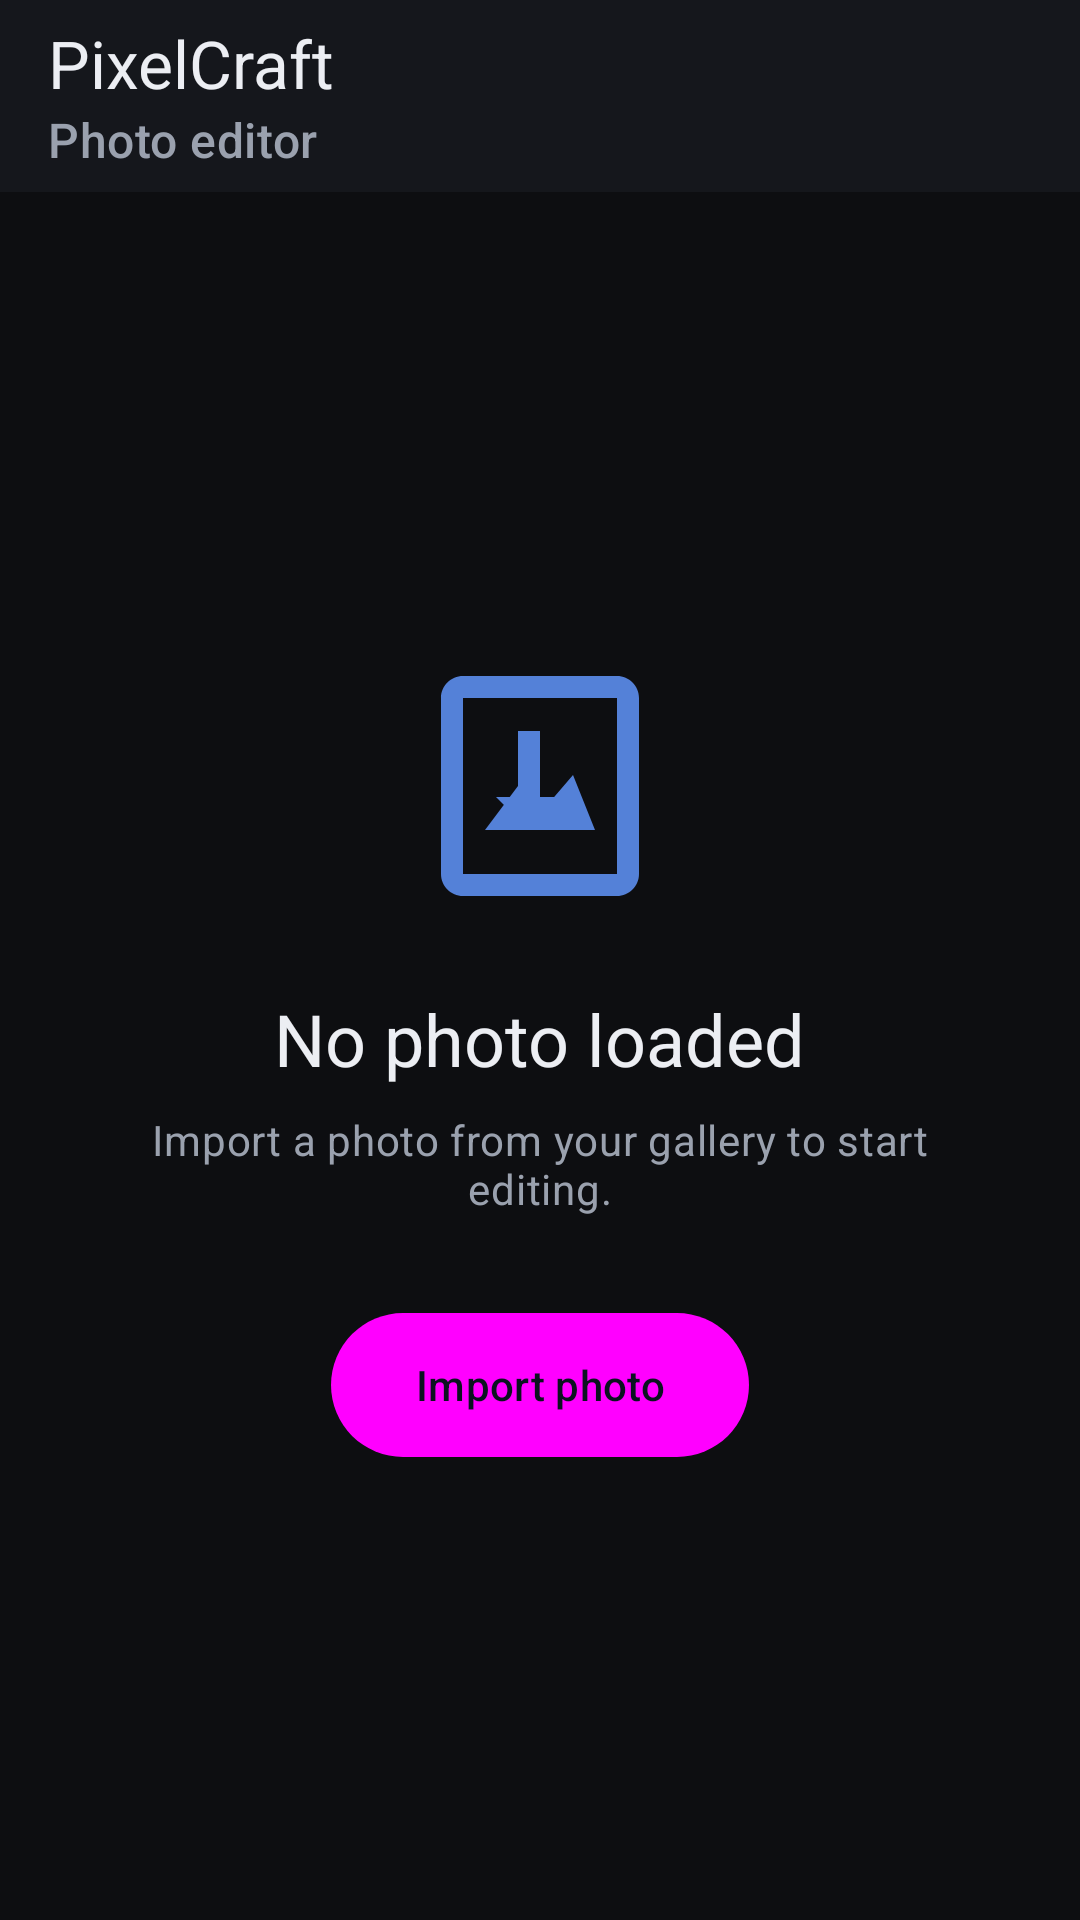

Named icons in this screenshot (1080 x 1920) and their centers, [x,y]:
Empty gallery illustration: [540,786]
